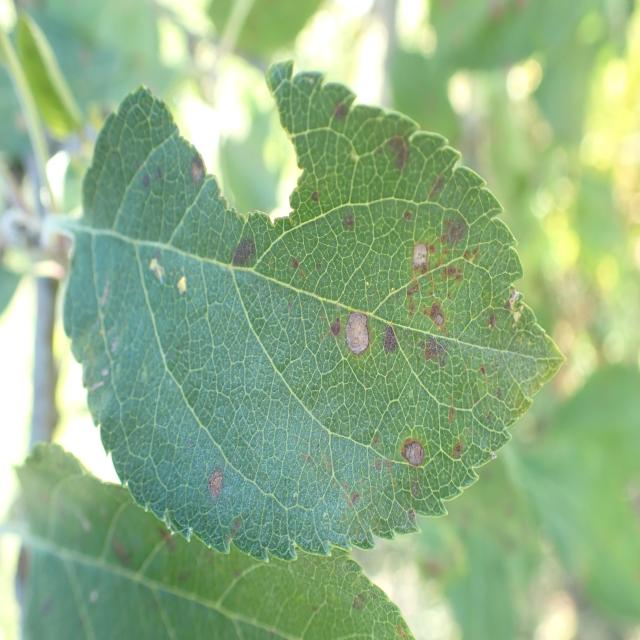frog-eye-leaf-spot: (62, 58, 566, 564)
